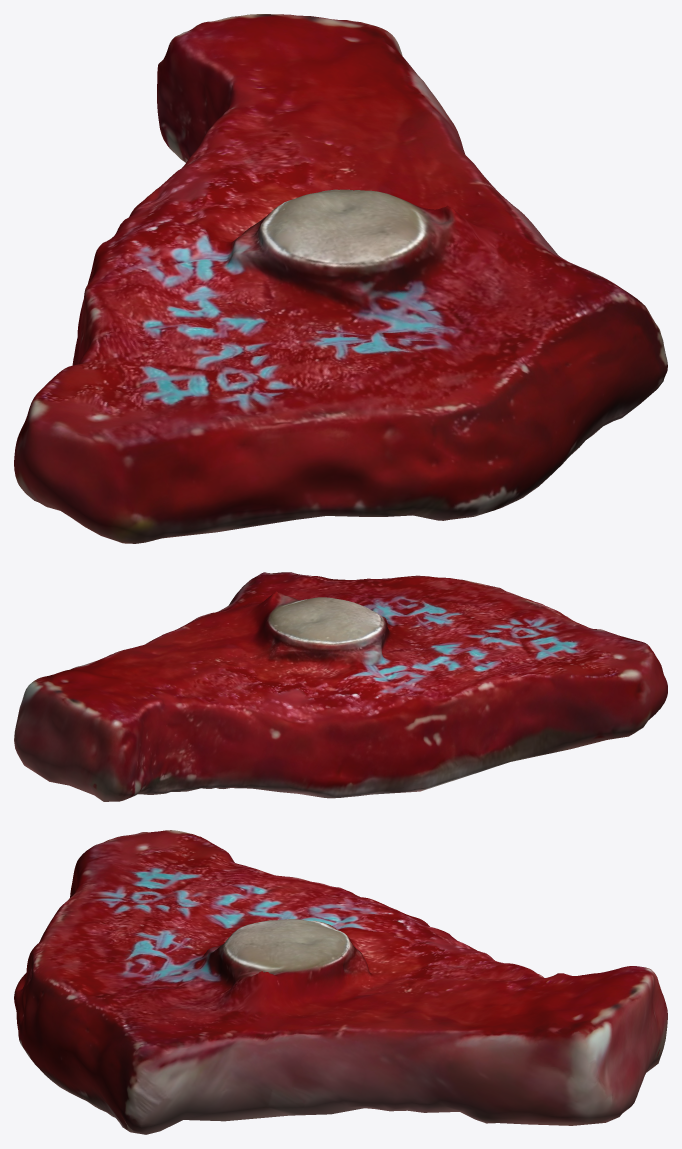
3 renders of one model, top to bottom at view 1: azimuth 30°, elevation 25°; view 2: azimuth 150°, elevation 25°; view 3: azimuth 270°, elevation 25°, orthographic. The views are drawn at different scales.
Bounding box in the file's own units: 0.5994 × 0.1552 × 0.6689.
1 material, 1 textured.
